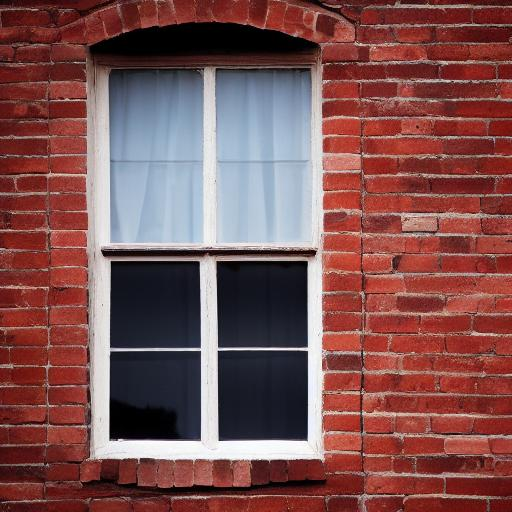Window: (44, 3, 367, 489)
